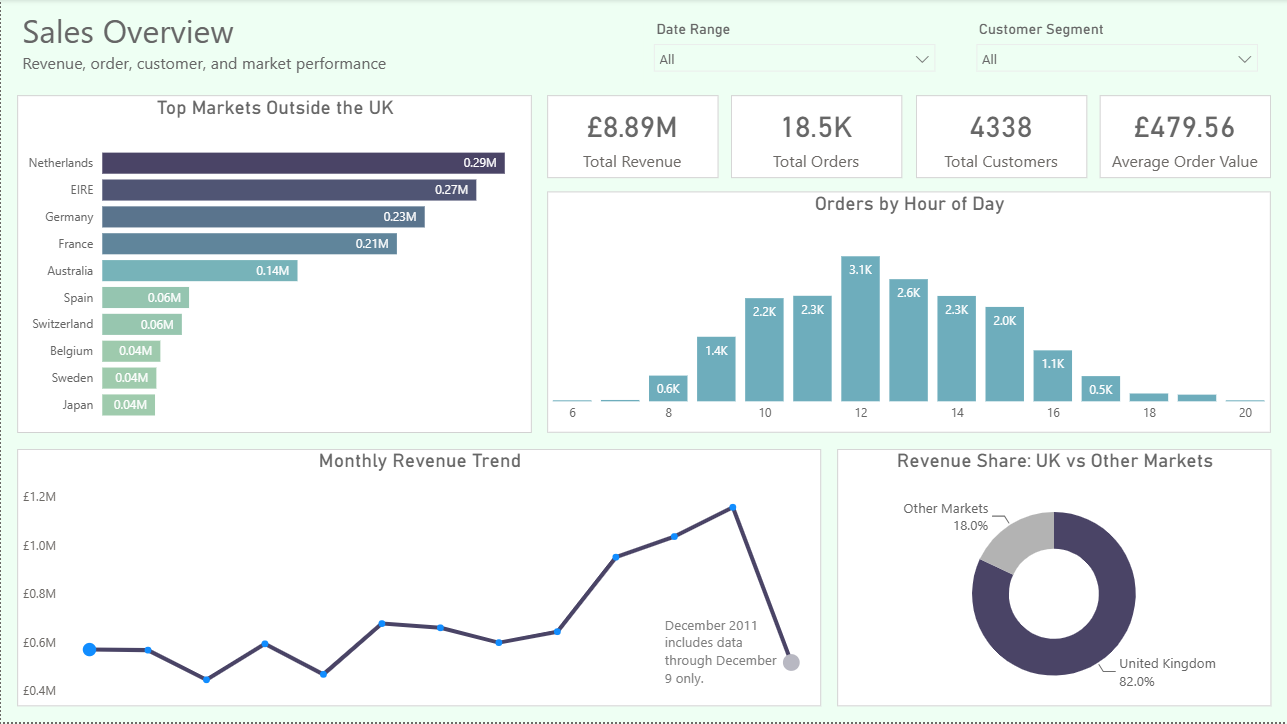

The page's visual inventory and layout, read from the dashboard file:
{"tool":"powerbi","page":{"name":"Sales Overview","canvas":[1280,720],"ordinal":0},"visuals":[{"type":"card","fields":{"Values":["cleaned_online_retail.Sales Total Revenue"]},"box":[544,96,170,82],"z":0},{"type":"lineChart","title":"Monthly Revenue Trend","fields":{"Category":["Calendar.Year Month"],"Y":["cleaned_online_retail.Sales Total Revenue"]},"box":[16,448,800,256],"z":1000},{"type":"donutChart","title":"Revenue Share: UK vs Other Markets","fields":{"Category":["cleaned_online_retail.Market Group"],"Y":["cleaned_online_retail.Sales Total Revenue"]},"box":[832,448,432,256],"z":2000},{"type":"textbox","box":[16,5,448,80],"z":3000},{"type":"slicer","fields":{"Values":["Calendar.Date"]},"box":[640,16,300,70],"z":4000},{"type":"slicer","fields":{"Values":["final_rfm_segments.Segment"]},"box":[960,16,300,70],"z":5000},{"type":"card","fields":{"Values":["cleaned_online_retail.Sales Total Customers"]},"box":[910,96,170,82],"z":6000},{"type":"card","fields":{"Values":["cleaned_online_retail.Average Order Value"]},"box":[1093,96,170,82],"z":7000},{"type":"card","fields":{"Values":["cleaned_online_retail.Sales Total Orders"]},"box":[727,96,170,82],"z":8000},{"type":"clusteredBarChart","title":"Top Markets Outside the UK","fields":{"Category":["cleaned_online_retail.Country"],"Y":["cleaned_online_retail.Revenue Outside UK"]},"box":[16,96,512,336],"z":9000},{"type":"clusteredColumnChart","title":"Orders by Hour of Day","fields":{"Category":["cleaned_online_retail.Order Hour"],"Y":["cleaned_online_retail.Sales Total Orders"]},"box":[544,192,720,240],"z":10000},{"type":"textbox","box":[655,608,128,80],"z":11000}]}

Visuals, with their boxes in screenshot pixels (x1, y1, x2, y2), scaled from the page's 1280x720 canvas onto the 1287x724 screenshot:
card - cleaned_online_retail.Sales Total Revenue: (left=547, top=97, right=718, bottom=179)
"Monthly Revenue Trend" lineChart: (left=16, top=450, right=820, bottom=708)
"Revenue Share: UK vs Other Markets" donutChart: (left=837, top=450, right=1271, bottom=708)
textbox: (left=16, top=5, right=467, bottom=85)
slicer - Calendar.Date: (left=644, top=16, right=945, bottom=86)
slicer - final_rfm_segments.Segment: (left=965, top=16, right=1267, bottom=86)
card - cleaned_online_retail.Sales Total Customers: (left=915, top=97, right=1086, bottom=179)
card - cleaned_online_retail.Average Order Value: (left=1099, top=97, right=1270, bottom=179)
card - cleaned_online_retail.Sales Total Orders: (left=731, top=97, right=902, bottom=179)
"Top Markets Outside the UK" clusteredBarChart: (left=16, top=97, right=531, bottom=434)
"Orders by Hour of Day" clusteredColumnChart: (left=547, top=193, right=1271, bottom=434)
textbox: (left=659, top=611, right=787, bottom=692)
